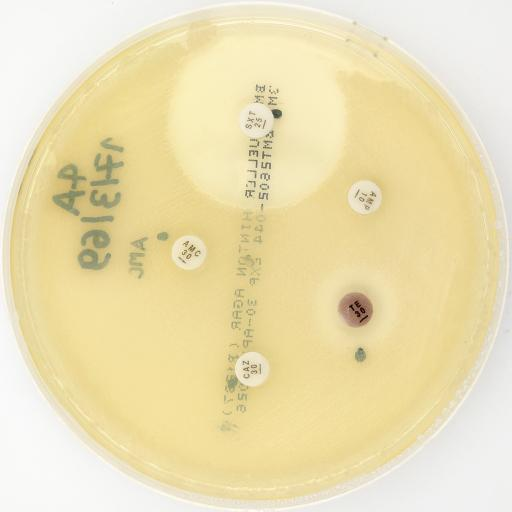disc: (347, 179, 382, 215), (172, 234, 207, 270), (238, 104, 274, 138), (338, 293, 372, 329), (235, 351, 269, 387)
